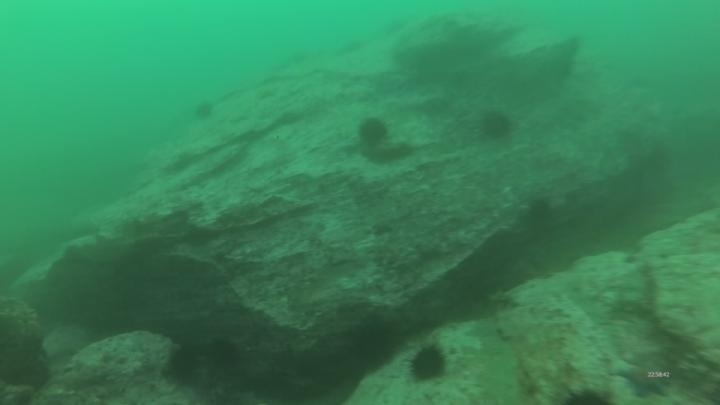echinus: (348, 316, 400, 371), (406, 342, 449, 385), (165, 343, 203, 385), (477, 107, 515, 142), (205, 335, 243, 370), (355, 115, 391, 149), (523, 195, 557, 230), (557, 386, 618, 405), (191, 98, 217, 123)
starfish: (611, 357, 673, 400)
